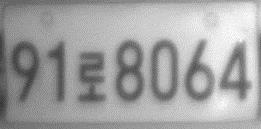0: (149, 38, 178, 101)
1: (47, 39, 67, 103)
4: (219, 40, 253, 101)
6: (183, 39, 216, 102)
8: (114, 39, 143, 102)
9: (10, 39, 39, 102)
로: (77, 51, 106, 105)
